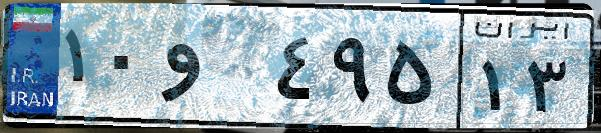0: (110, 28, 158, 98)
1: (57, 26, 110, 100), (475, 38, 525, 113)
3: (525, 38, 570, 115)
4: (270, 28, 330, 110)
5: (385, 28, 445, 110)
9: (330, 28, 385, 110)
و: (158, 20, 270, 120)
